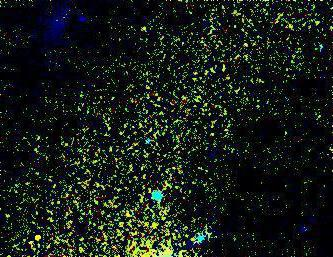star: (22, 222, 52, 252)
